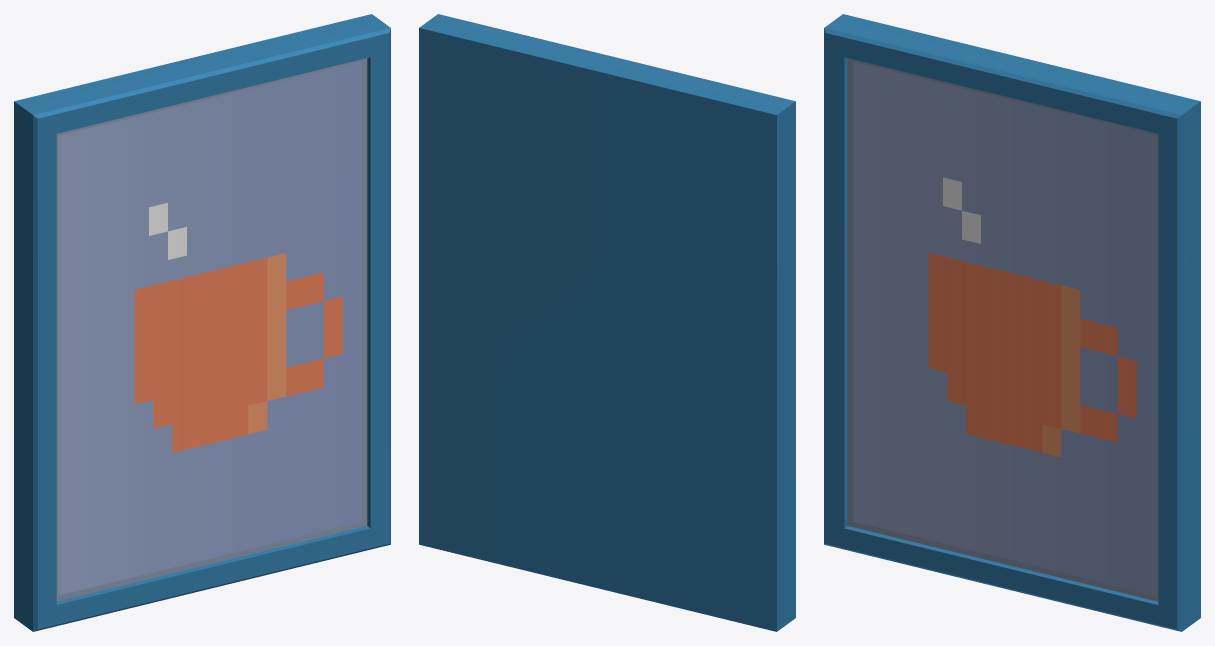
The model's file is Quadro.fbx.
The picture shows the model from 3 angles, left to right: view 1: azimuth 30°, elevation 25°; view 2: azimuth 150°, elevation 25°; view 3: azimuth 330°, elevation 25°; orthographic projection.
Parts seen in each view (by area): view 1: Quadro; view 2: Quadro; view 3: Quadro.
Part boxes in pixels (bbox=[...]): Quadro: bbox=[14, 14, 390, 631]; Quadro: bbox=[419, 14, 795, 631]; Quadro: bbox=[824, 14, 1200, 631].
Bounding box in the file's own units: 47.89 × 66.11 × 4.79.
